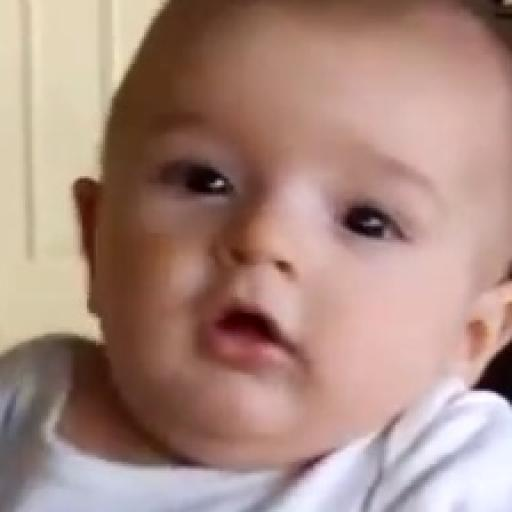Autism: (80, 20, 512, 512)
